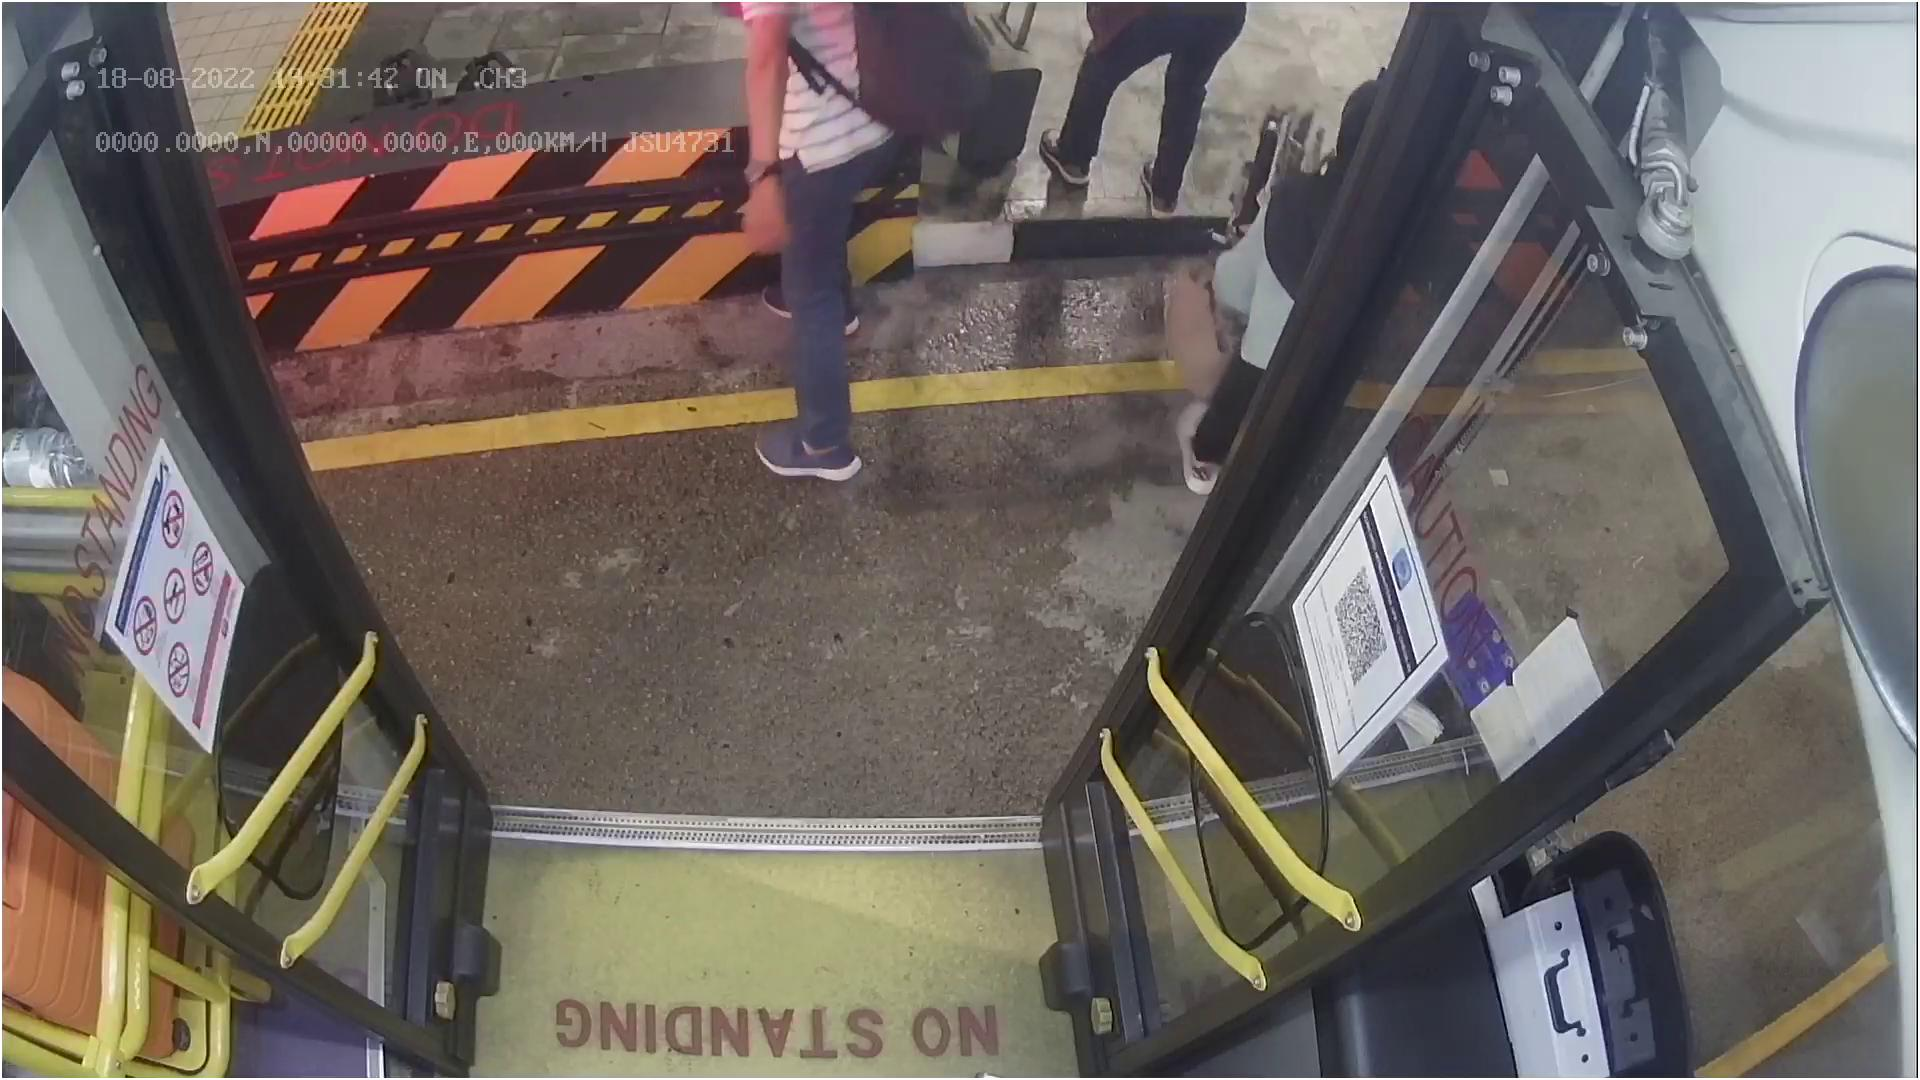open: (128, 0, 1375, 177)
